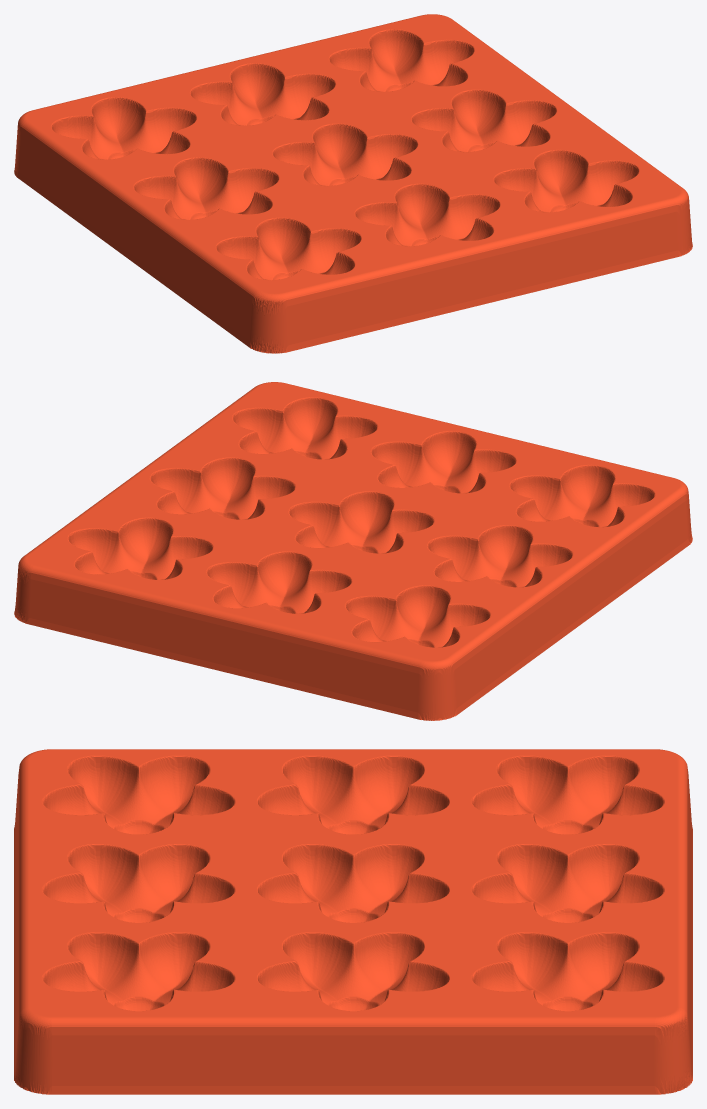
The model's file is mold.glb.
The picture shows the model from 3 angles, top to bottom: view 1: azimuth 30°, elevation 25°; view 2: azimuth 150°, elevation 25°; view 3: azimuth 270°, elevation 25°; orthographic projection. The views are drawn at different scales.
Parts seen in each view (by area): view 1: geometry_0; view 2: geometry_0; view 3: geometry_0.
Part boxes in pixels (left/top/right/bottom): geometry_0: left=14, top=14, right=692, bottom=353; geometry_0: left=14, top=382, right=692, bottom=720; geometry_0: left=14, top=749, right=692, bottom=1094.
Bounding box in the file's own units: 0.1555 × 0.0185 × 0.1595.
